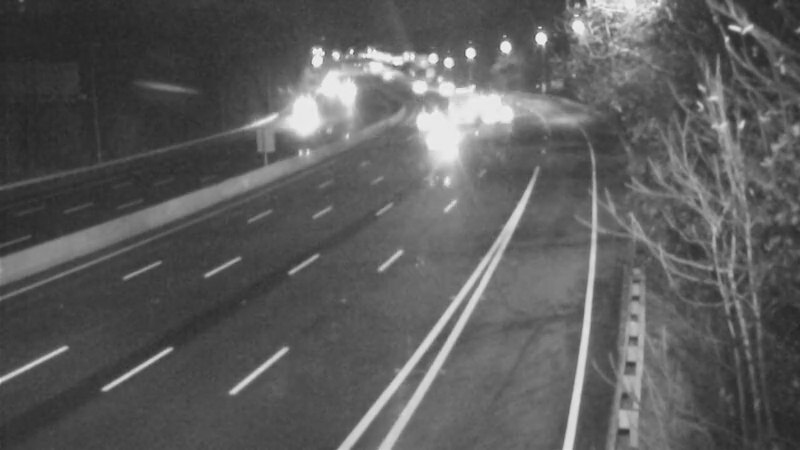vehicle: (390, 63, 440, 113), (416, 64, 466, 114), (463, 75, 513, 125), (432, 76, 482, 126), (469, 90, 519, 140), (399, 92, 449, 142), (425, 115, 475, 165), (273, 88, 323, 138), (320, 68, 370, 118)
